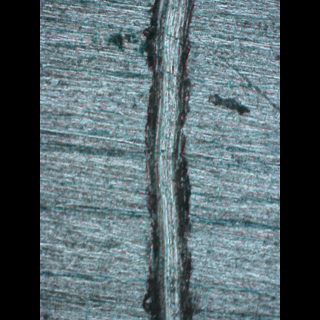d: (140, 0, 200, 317)
